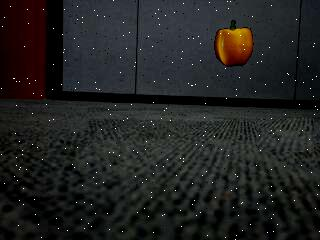Capsicum: (215, 20, 255, 68)
